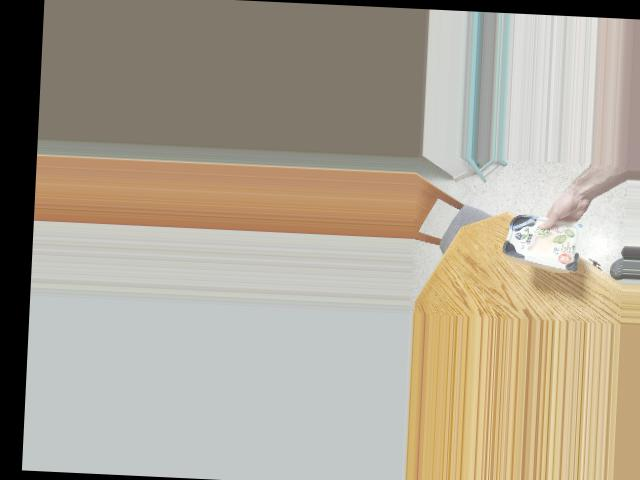cheese: (502, 211, 581, 273)
